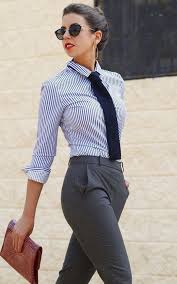F_shirt: (21, 55, 128, 181)
F_tie: (86, 66, 125, 164)
